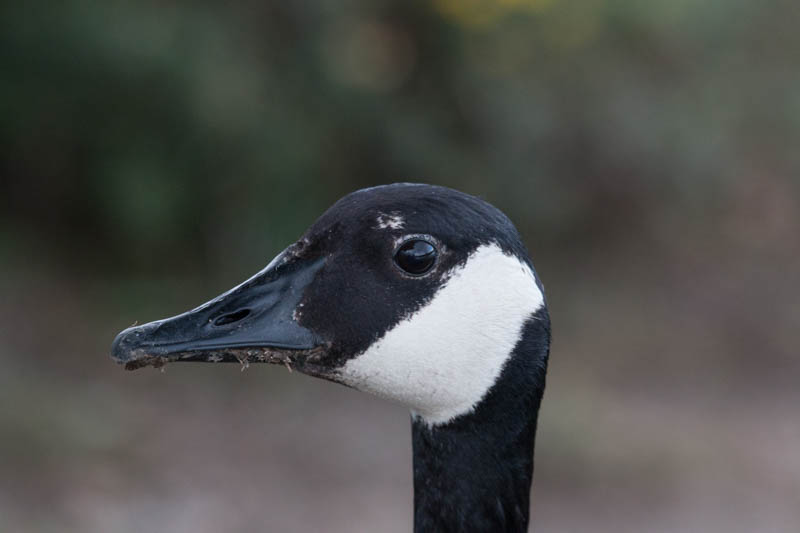goose-head: (111, 181, 552, 427)
